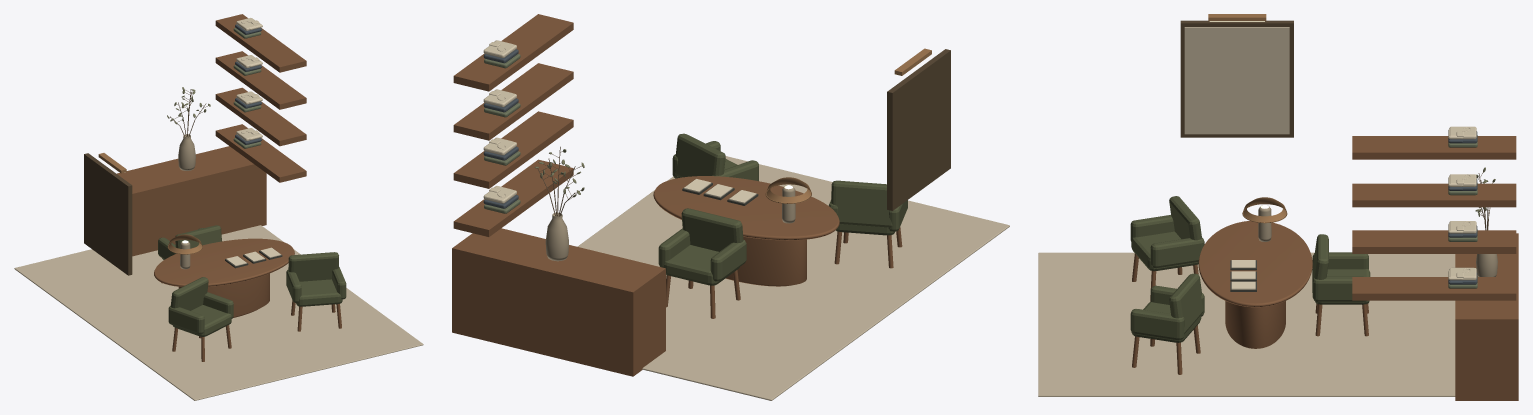
Rendered from mf_room_consult.glb.
3 renders of one model, left to right at view 1: azimuth 30°, elevation 25°; view 2: azimuth 150°, elevation 25°; view 3: azimuth 270°, elevation 25°, orthographic. The views are drawn at different scales.
Visible parts, largest first — view 1: mf_room_consult; view 2: mf_room_consult; view 3: mf_room_consult.
Boxes of the visible parts, x1,y1,x2,y2 form: mf_room_consult: (14, 14, 423, 400); mf_room_consult: (452, 14, 1009, 400); mf_room_consult: (1038, 14, 1518, 400).
Bounding box in the file's own units: 3.94 × 3.13 × 5.22.
